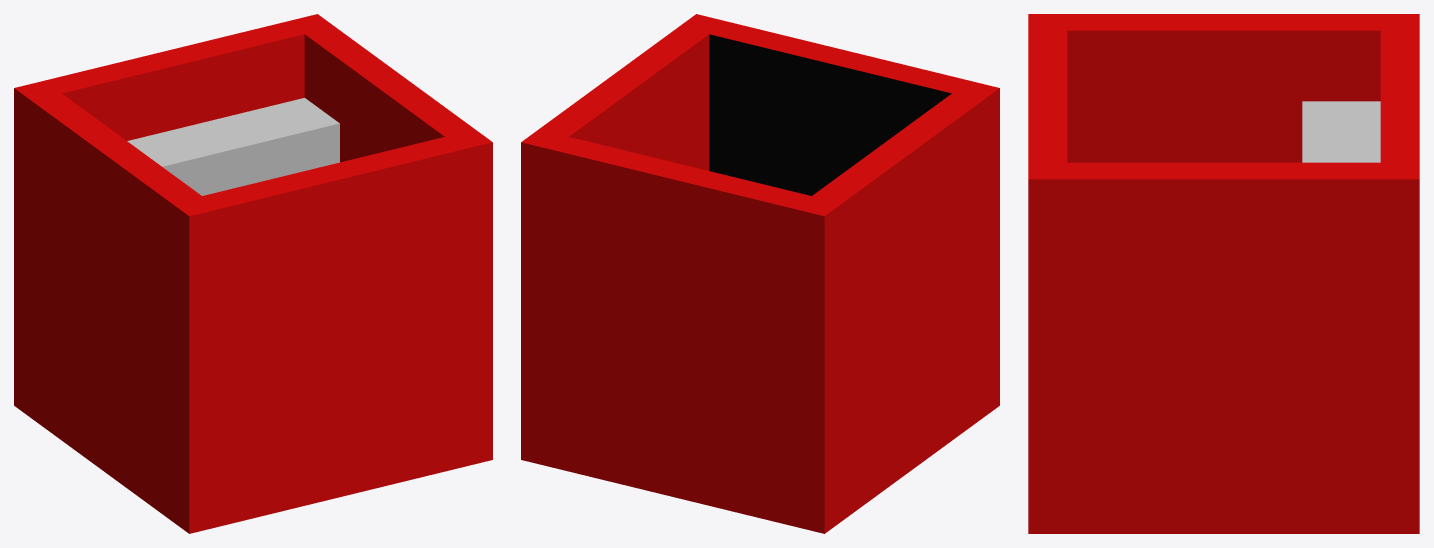
Rendered from TileStairs.fbx.
The picture shows the model from 3 angles, left to right: view 1: azimuth 30°, elevation 25°; view 2: azimuth 150°, elevation 25°; view 3: azimuth 270°, elevation 25°; orthographic projection. The views are drawn at different scales.
Visible parts, largest first — view 1: Cube; view 2: Cube; view 3: Cube.
Boxes of the visible parts, left/top/right/bottom form: Cube: left=14, top=14, right=492, bottom=533; Cube: left=521, top=14, right=999, bottom=533; Cube: left=1028, top=14, right=1419, bottom=533.
Size of the model in its own units: 100 by 100 by 100.
